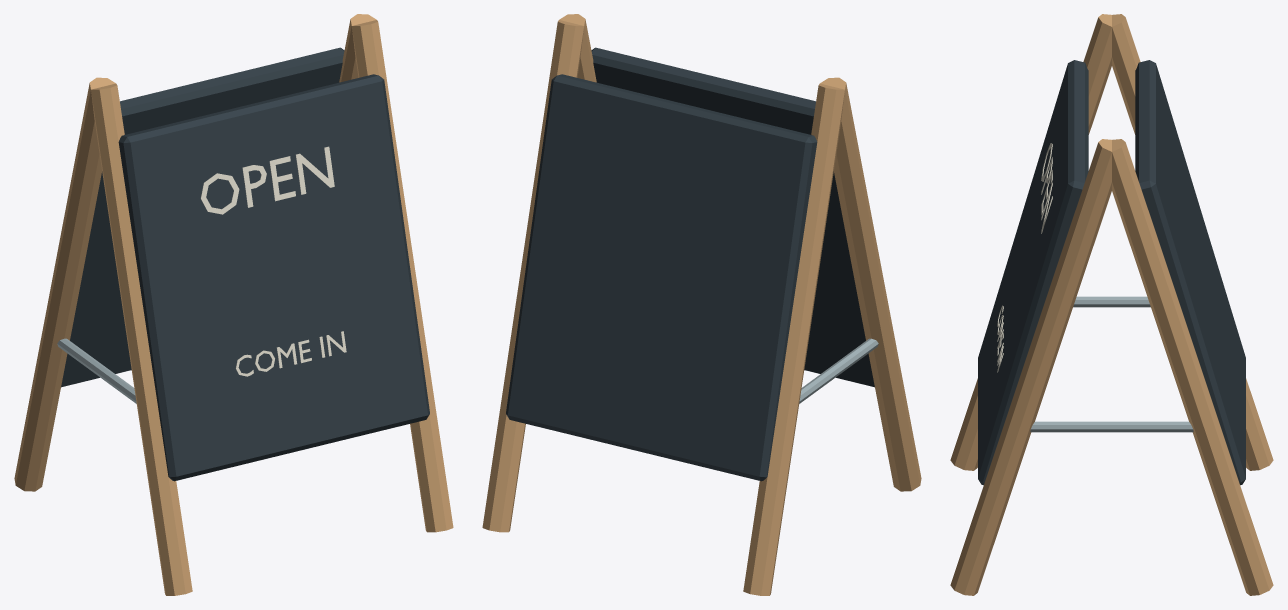
Rendered from Sidewalk_A_Frame.glb.
The picture shows the model from 3 angles, left to right: view 1: azimuth 30°, elevation 25°; view 2: azimuth 150°, elevation 25°; view 3: azimuth 270°, elevation 25°; orthographic projection.
Visible parts, largest first — view 1: Sidewalk_A_Frame; view 2: Sidewalk_A_Frame; view 3: Sidewalk_A_Frame.
Part boxes in pixels (left/top/right/bottom): Sidewalk_A_Frame: left=14, top=14, right=453, bottom=595; Sidewalk_A_Frame: left=482, top=14, right=921, bottom=595; Sidewalk_A_Frame: left=950, top=14, right=1273, bottom=595.
Size of the model in its own units: 0.68 by 1.04 by 0.6774.
